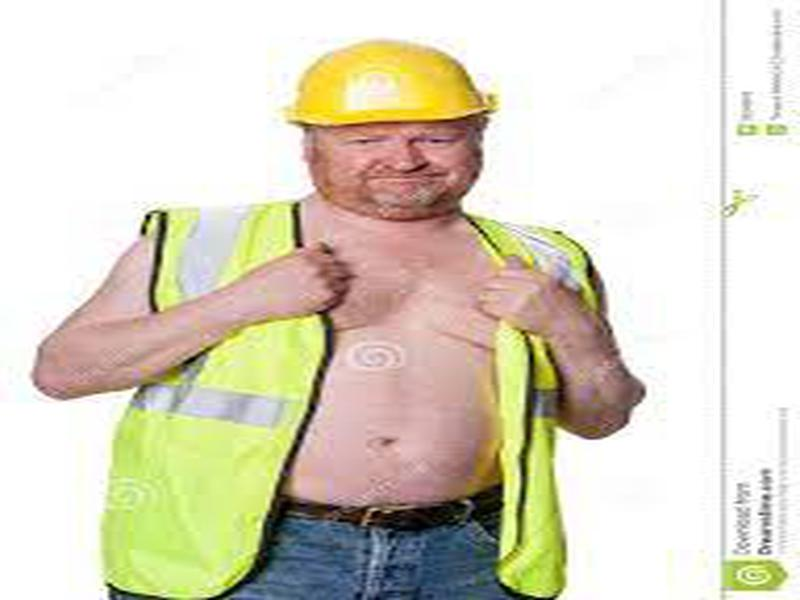hard-hat: (277, 38, 502, 127)
